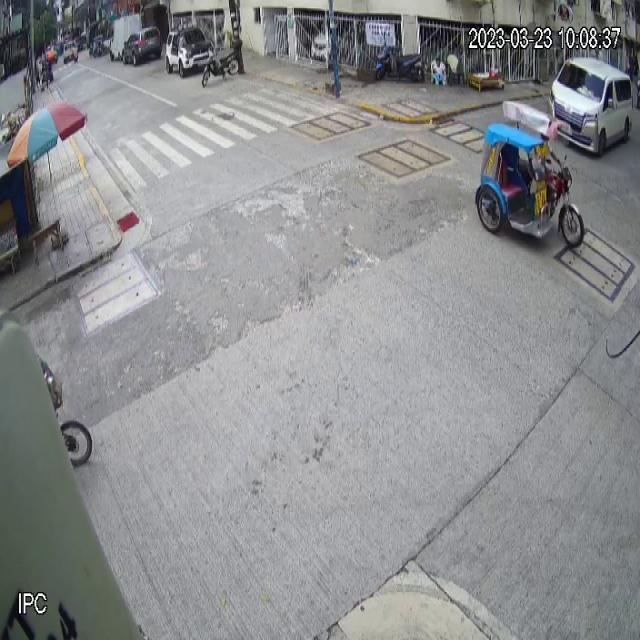Motorcycle: (375, 40, 425, 83), (201, 38, 243, 88)
Tricycle: (474, 97, 584, 250)
Van: (548, 54, 633, 158)
